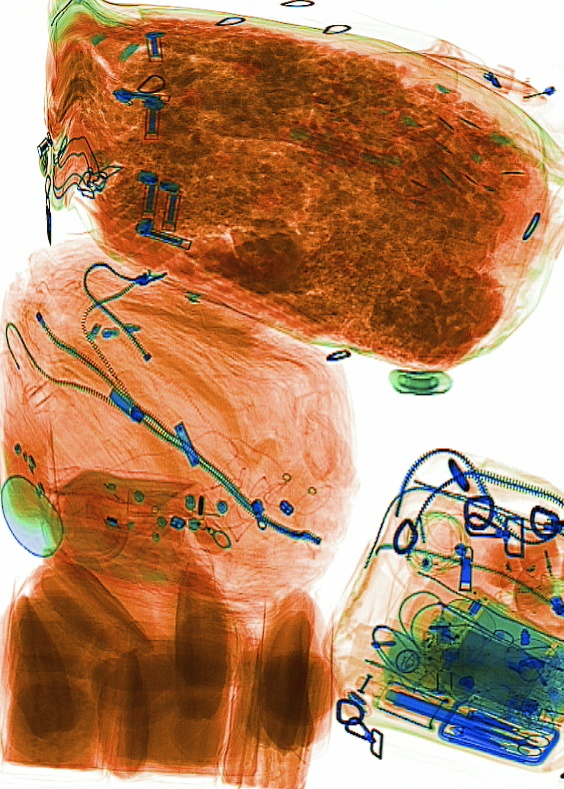scissors: (454, 708, 550, 757)
